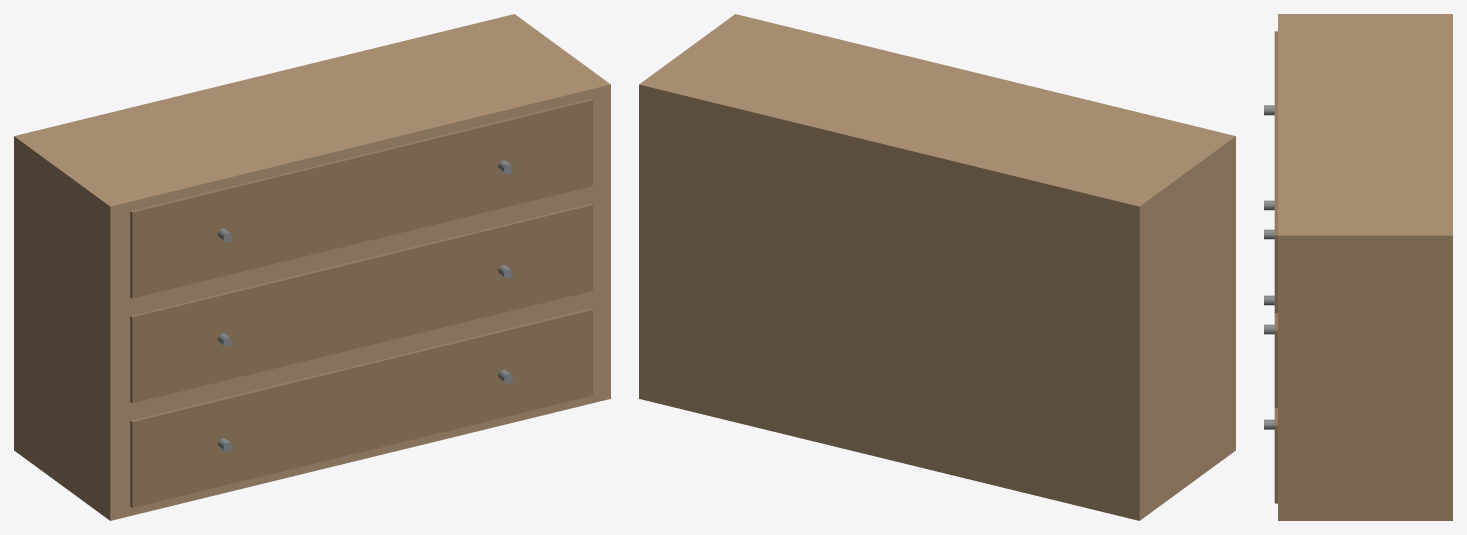
Rendered from dresser.glb.
3 renders of one model, left to right at view 1: azimuth 30°, elevation 25°; view 2: azimuth 150°, elevation 25°; view 3: azimuth 270°, elevation 25°, orthographic. The views are drawn at different scales.
Parts seen in each view (by area): view 1: Dresser; view 2: Dresser; view 3: Dresser.
Part boxes in pixels (x1=…): Dresser: x1=14, y1=14, x2=610, y2=520; Dresser: x1=639, y1=14, x2=1235, y2=520; Dresser: x1=1264, y1=14, x2=1452, y2=520.
Bounding box in the file's own units: 1.5 × 0.9 × 0.54.
